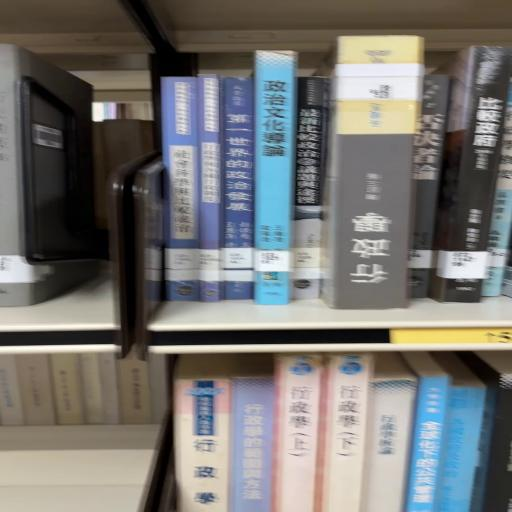book: (429, 47, 512, 304), (255, 52, 299, 307), (409, 76, 450, 299), (292, 78, 330, 299), (223, 78, 254, 300), (199, 76, 224, 303)
reverse: (321, 36, 425, 310)
